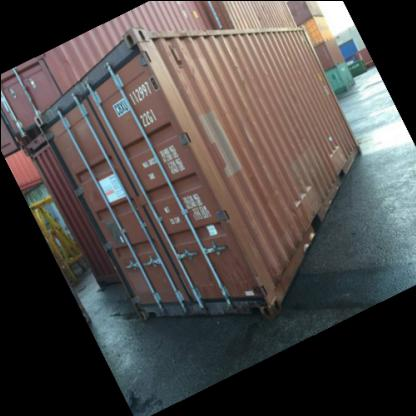Damage: (230, 256, 272, 314), (284, 165, 314, 206), (321, 127, 341, 160)
